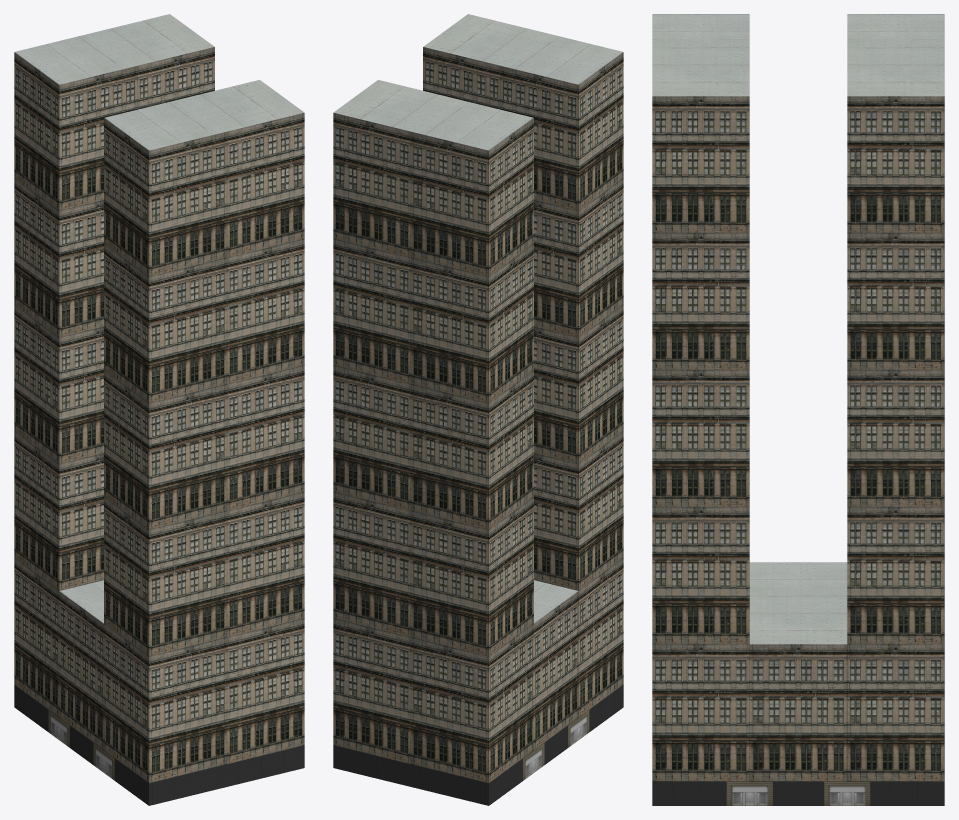
File: Building048.fbx
The picture shows the model from 3 angles, left to right: view 1: azimuth 30°, elevation 25°; view 2: azimuth 150°, elevation 25°; view 3: azimuth 270°, elevation 25°; orthographic projection. The views are drawn at different scales.
Visible parts, largest first — view 1: Building048; view 2: Building048; view 3: Building048.
Part boxes in pixels (x1,y1,x2,y2): Building048: [14, 14, 304, 805]; Building048: [333, 14, 623, 805]; Building048: [652, 14, 944, 805].
Bounding box in the file's own units: 19.53 × 78.55 × 29.29.
